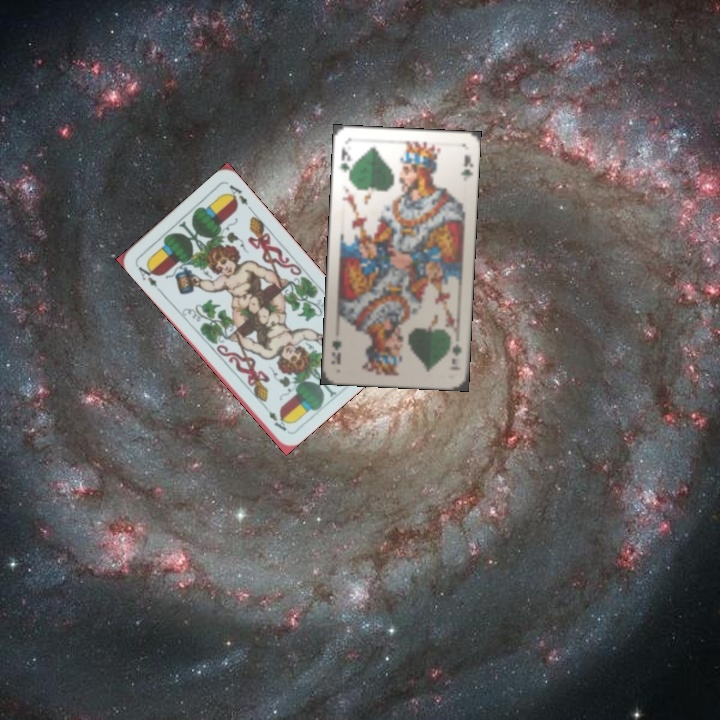EA: (132, 260, 163, 294)
GK: (335, 143, 354, 180), (448, 340, 465, 367)
